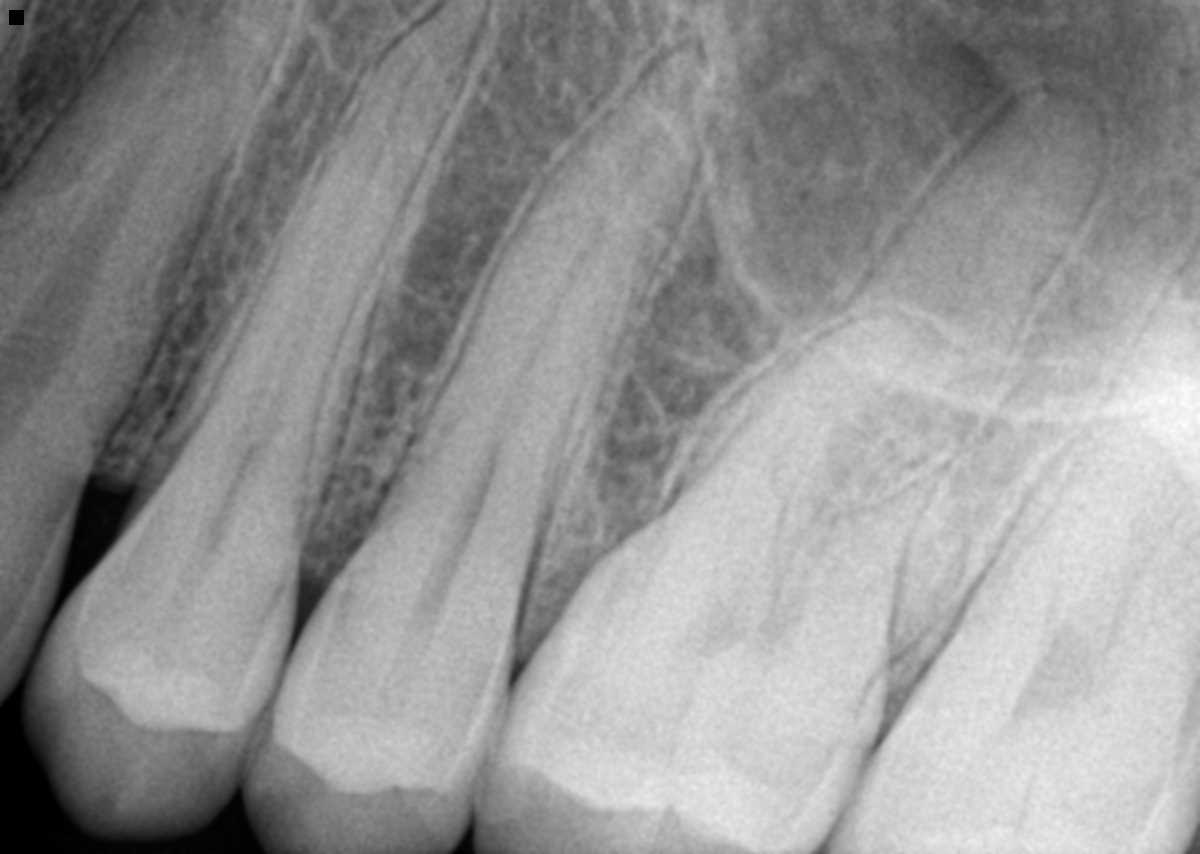Distal Root: (821, 348, 1127, 678)
Main Canal: (422, 130, 664, 592), (228, 51, 433, 499), (0, 0, 222, 401)
Main Root: (361, 40, 706, 617), (154, 0, 491, 524), (0, 0, 295, 453), (920, 245, 1200, 686)
Mesial Root: (660, 307, 924, 593)
Palatal Root: (679, 88, 1109, 667), (718, 79, 1102, 606)
